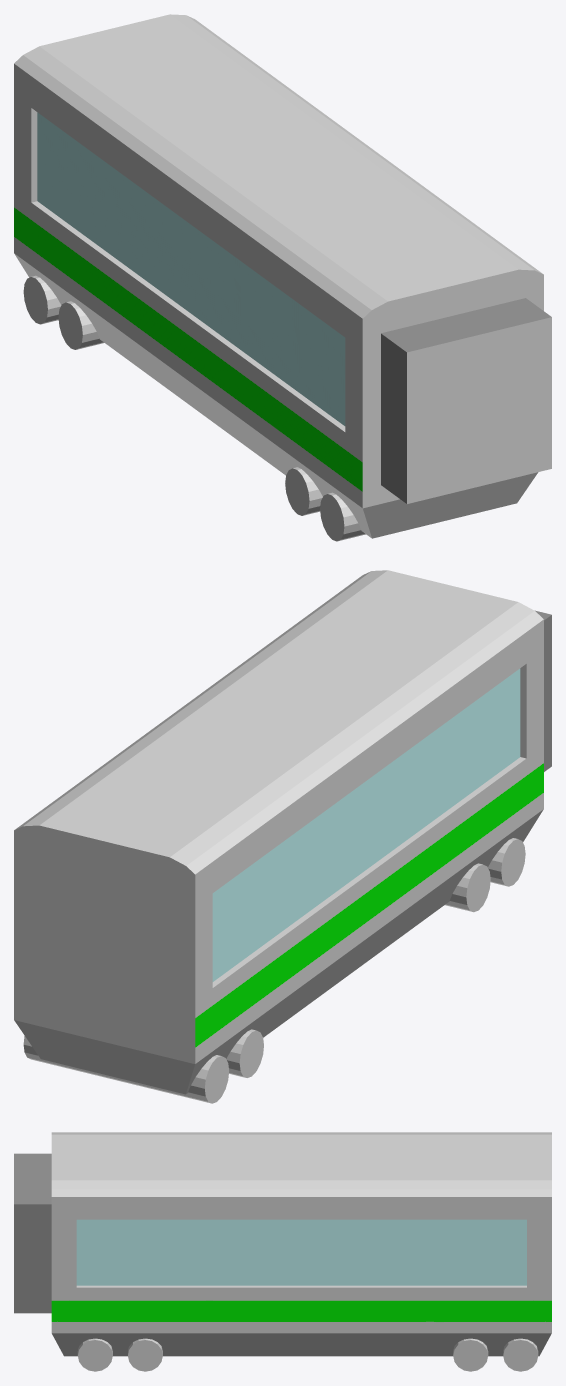
The model's file is train_waggon.obj.
The picture shows the model from 3 angles, top to bottom: view 1: azimuth 30°, elevation 25°; view 2: azimuth 150°, elevation 25°; view 3: azimuth 270°, elevation 25°; orthographic projection. The views are drawn at different scales.
Visible parts, largest first — view 1: Cylinder.006; view 2: Cylinder.006; view 3: Cylinder.006.
Boxes of the visible parts, box(x1,y1,x2,y2) form: Cylinder.006: box(14, 14, 551, 541); Cylinder.006: box(14, 570, 551, 1103); Cylinder.006: box(14, 1132, 551, 1371).
Bounding box in the file's own units: 3 × 4.03 × 10.75.
